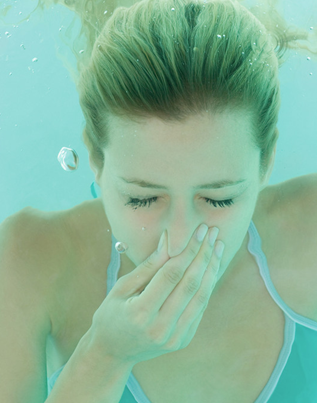face: (103, 89, 255, 294)
